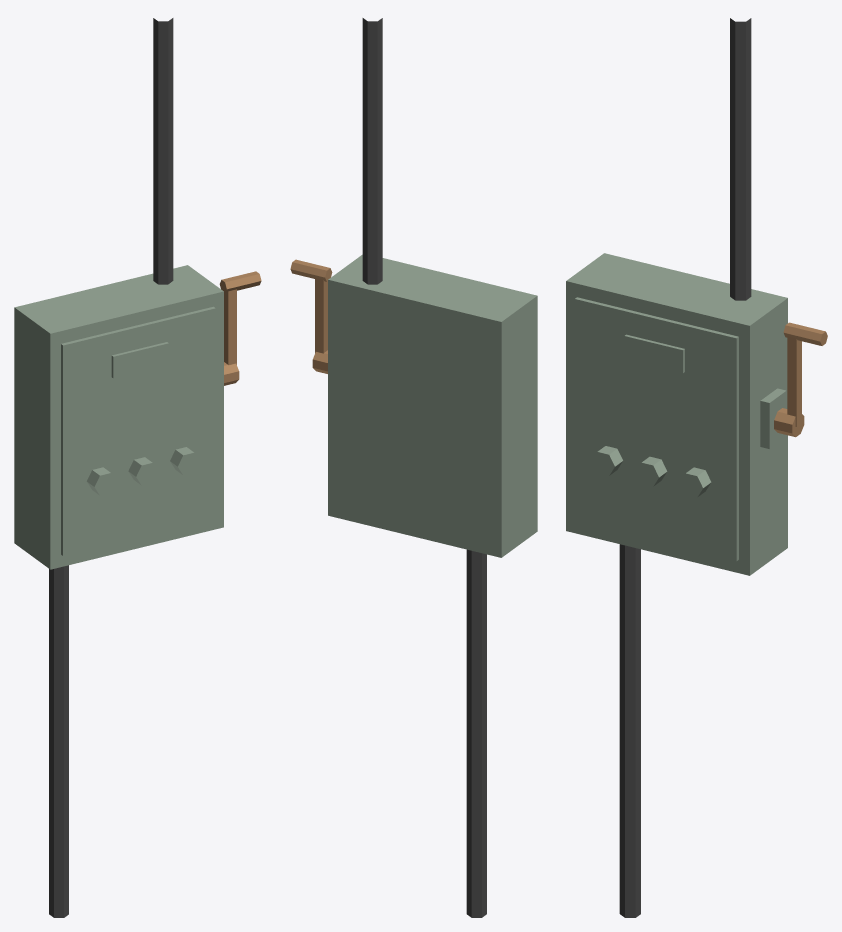
File: fuse_box.glb
3 views of the same model, side by side, from view 1: azimuth 30°, elevation 25°; view 2: azimuth 150°, elevation 25°; view 3: azimuth 330°, elevation 25° (orthographic). The views are drawn at different scales.
Visible parts, largest first — view 1: box, conduit, lever; view 2: box, conduit, lever; view 3: box, conduit, lever.
Boxes of the visible parts, <box> form: box: <box>14,265,223,569</box>; conduit: <box>49,18,173,917</box>; lever: <box>219,271,261,385</box>; box: <box>328,254,537,557</box>; conduit: <box>362,18,486,917</box>; lever: <box>290,259,332,373</box>; box: <box>566,253,787,575</box>; conduit: <box>619,18,751,917</box>; lever: <box>774,322,827,437</box>.
Size of the model in its own units: 0.65 by 2.4 by 0.23.
